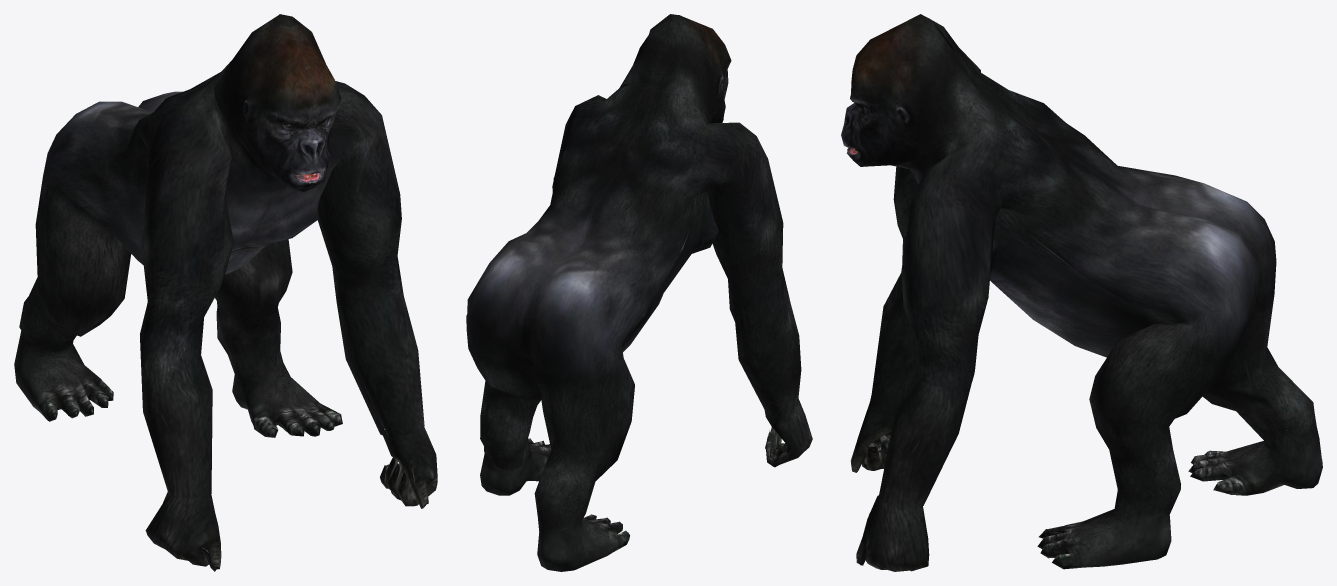
The model's file is gorilla.glb.
3 views of the same model, side by side, from view 1: azimuth 30°, elevation 25°; view 2: azimuth 150°, elevation 25°; view 3: azimuth 270°, elevation 25° (orthographic). The views are drawn at different scales.
Visible parts, largest first — view 1: Gorilla; view 2: Gorilla; view 3: Gorilla.
Boxes of the visible parts, x1=… form: Gorilla: x1=14, y1=14, x2=437, y2=571; Gorilla: x1=466, y1=14, x2=812, y2=571; Gorilla: x1=841, y1=14, x2=1322, y2=571.
Bounding box in the file's own units: 1.15 × 1.98 × 1.71.
Materials: 1 (1 with a texture image).
